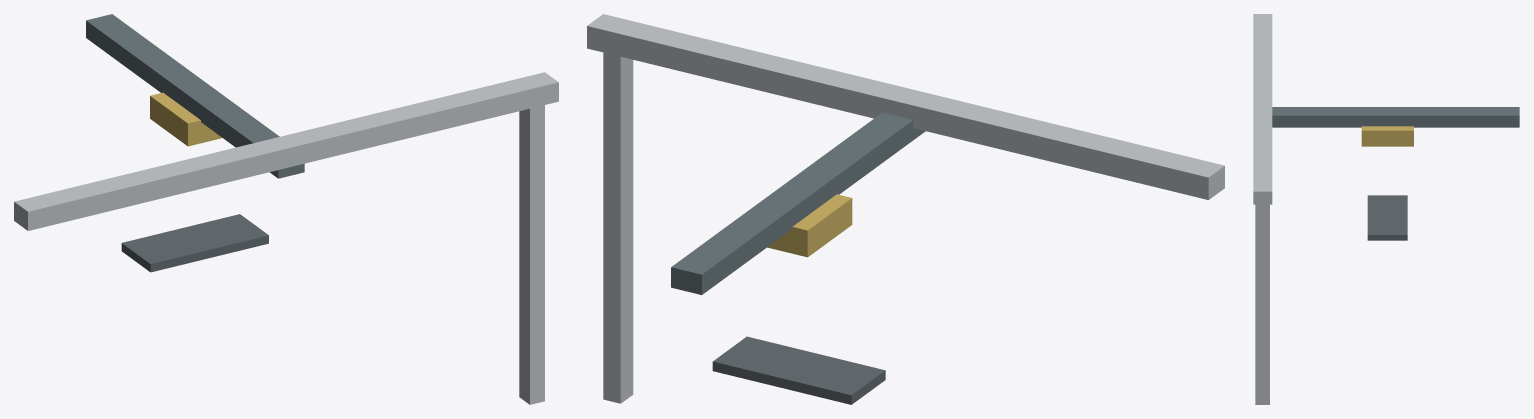
File: rtg-lod2.glb
The picture shows the model from 3 angles, left to right: view 1: azimuth 30°, elevation 25°; view 2: azimuth 150°, elevation 25°; view 3: azimuth 270°, elevation 25°; orthographic projection. The views are drawn at different scales.
Visible parts, largest first — view 1: top-girder, leg, bridge, spreader, trolley; view 2: top-girder, bridge, leg, spreader, trolley; view 3: bridge, top-girder, leg, spreader, trolley.
Boxes of the visible parts, box(x1,y1,x2,y2) form: top-girder: box(14, 72, 558, 230); leg: box(519, 105, 544, 404); bridge: box(86, 14, 304, 178); spreader: box(121, 214, 268, 272); trolley: box(150, 92, 221, 146); top-girder: box(587, 14, 1224, 199); bridge: box(671, 112, 925, 294); leg: box(603, 52, 633, 403); spreader: box(712, 336, 885, 404); trolley: box(767, 194, 852, 257); bridge: box(1272, 107, 1519, 127); top-girder: box(1253, 14, 1272, 204); leg: box(1255, 204, 1269, 404); spreader: box(1367, 195, 1407, 240); trolley: box(1361, 126, 1413, 146).
Size of the model in its own units: 12.1 by 6.91 by 7.67.
